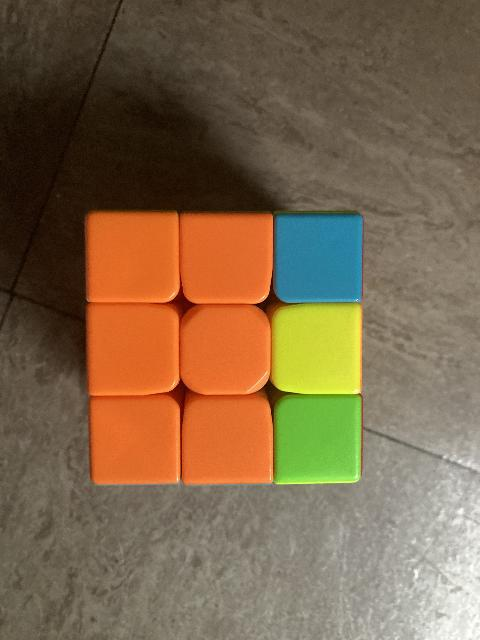Blue: (280, 220, 363, 298)
Green: (276, 399, 358, 481)
Orange: (87, 213, 179, 301), (185, 398, 270, 482), (93, 400, 178, 482), (187, 216, 273, 294), (184, 310, 266, 390), (94, 312, 174, 391)
Yellow: (276, 306, 360, 392)
